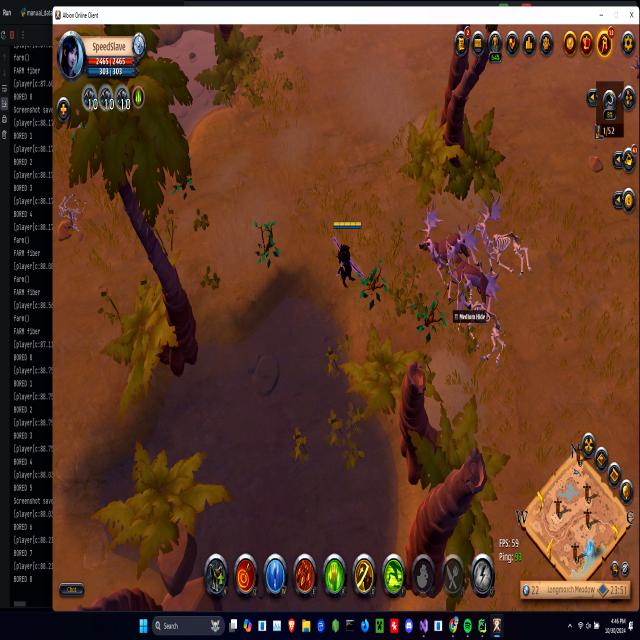mob: (418, 223, 496, 305)
red: (332, 217, 362, 290)
